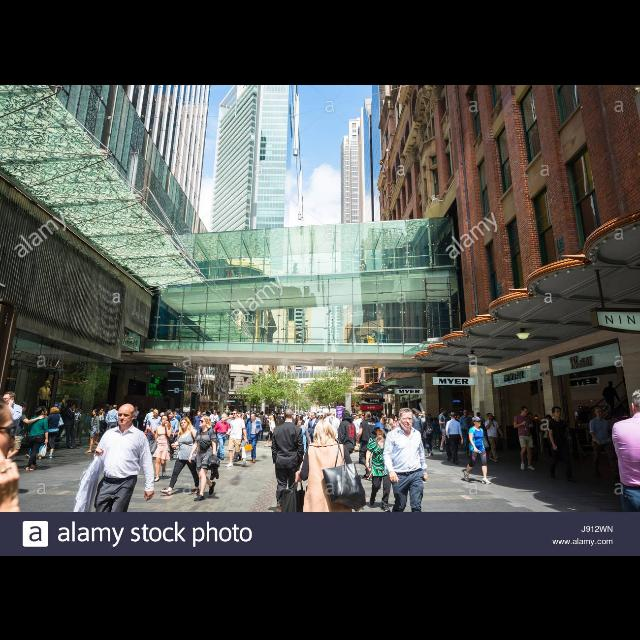head: (118, 403, 136, 425), (398, 407, 414, 428), (316, 418, 332, 438), (200, 414, 212, 428), (4, 391, 16, 405), (374, 425, 386, 437), (284, 408, 294, 420), (180, 416, 190, 428), (552, 406, 562, 416), (18, 402, 28, 412), (521, 404, 529, 416), (474, 416, 482, 426), (596, 407, 604, 417), (162, 414, 170, 424), (36, 406, 44, 416), (526, 412, 534, 420), (364, 411, 372, 419), (342, 409, 350, 417), (232, 409, 240, 417), (40, 406, 46, 416), (487, 412, 493, 420), (297, 416, 303, 424), (154, 409, 160, 417), (168, 412, 176, 418), (93, 408, 99, 416), (52, 406, 58, 414), (251, 413, 257, 421), (468, 409, 474, 416), (329, 408, 336, 414), (222, 414, 228, 421), (608, 380, 614, 386), (451, 412, 457, 418), (441, 408, 447, 414), (425, 415, 431, 421), (388, 417, 394, 423), (311, 412, 317, 418), (112, 404, 118, 410), (70, 403, 76, 409), (174, 408, 180, 414), (476, 412, 482, 416), (464, 409, 468, 415), (414, 412, 420, 416), (422, 410, 426, 416), (394, 416, 398, 422), (213, 409, 217, 415), (270, 414, 274, 420), (198, 410, 202, 416), (434, 417, 438, 421), (418, 412, 422, 416), (151, 408, 155, 412), (135, 406, 139, 410), (100, 408, 104, 412), (77, 407, 81, 411), (187, 411, 191, 415), (206, 410, 210, 414), (262, 410, 264, 414), (430, 414, 432, 416), (383, 416, 385, 418)
person: (382, 405, 430, 529), (270, 407, 306, 513), (159, 415, 201, 495), (188, 413, 222, 501), (2, 398, 46, 462), (364, 421, 394, 512), (462, 414, 492, 484), (547, 404, 573, 481), (588, 404, 614, 478), (1, 389, 23, 473), (512, 404, 538, 470), (24, 406, 50, 470), (355, 410, 377, 480), (150, 414, 172, 482), (337, 408, 357, 476), (226, 408, 248, 468), (26, 406, 50, 460), (444, 410, 466, 464), (323, 406, 342, 468), (291, 416, 313, 464), (212, 412, 234, 460), (45, 406, 65, 458), (484, 411, 504, 461), (246, 411, 264, 463), (85, 407, 105, 453), (163, 410, 180, 460), (522, 410, 540, 456), (146, 408, 162, 457), (458, 408, 474, 456), (306, 410, 322, 458), (466, 409, 480, 458), (601, 379, 621, 413), (104, 402, 120, 443), (473, 410, 487, 456), (64, 402, 78, 448), (438, 406, 450, 452), (143, 408, 159, 442), (264, 414, 280, 446), (410, 411, 422, 451), (422, 416, 434, 456), (74, 406, 86, 446), (193, 410, 205, 444), (208, 408, 220, 440), (200, 410, 212, 442), (172, 406, 182, 444), (95, 406, 106, 439), (386, 417, 396, 453), (419, 410, 429, 444), (415, 410, 425, 442), (392, 416, 402, 448), (130, 404, 140, 434), (184, 410, 194, 440), (432, 416, 441, 448), (427, 412, 435, 442), (258, 409, 264, 438), (380, 414, 386, 428)
